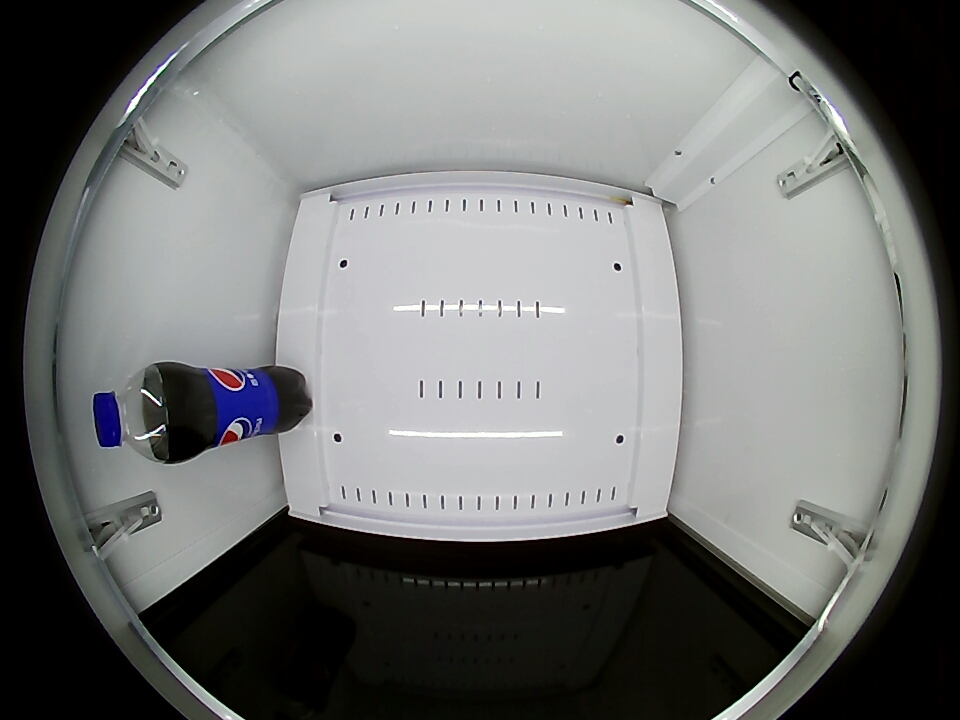baishikele-2: (92, 365, 178, 462)
